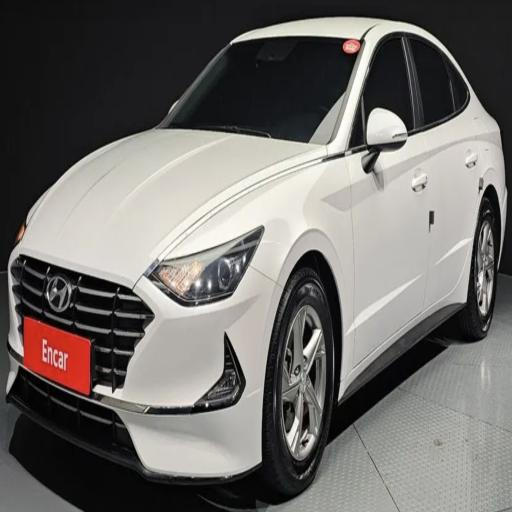normal: (6, 6, 511, 498)
